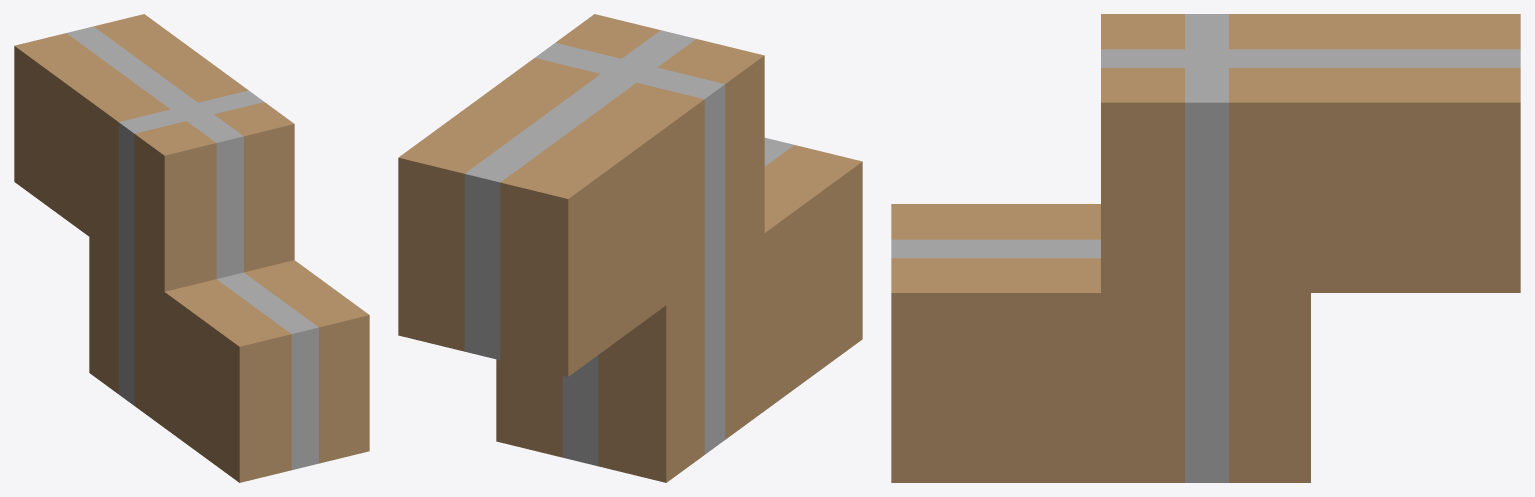
3 views of the same model, side by side, from view 1: azimuth 30°, elevation 25°; view 2: azimuth 150°, elevation 25°; view 3: azimuth 270°, elevation 25° (orthographic). The views are drawn at different scales.
Parts seen in each view (by area): view 1: Visual; view 2: Visual; view 3: Visual.
Boxes of the visible parts, x1,y1,x2,y2 form: Visual: [14, 14, 369, 482]; Visual: [398, 14, 862, 482]; Visual: [891, 14, 1520, 482].
Size of the model in its own units: 1 by 2 by 3.
